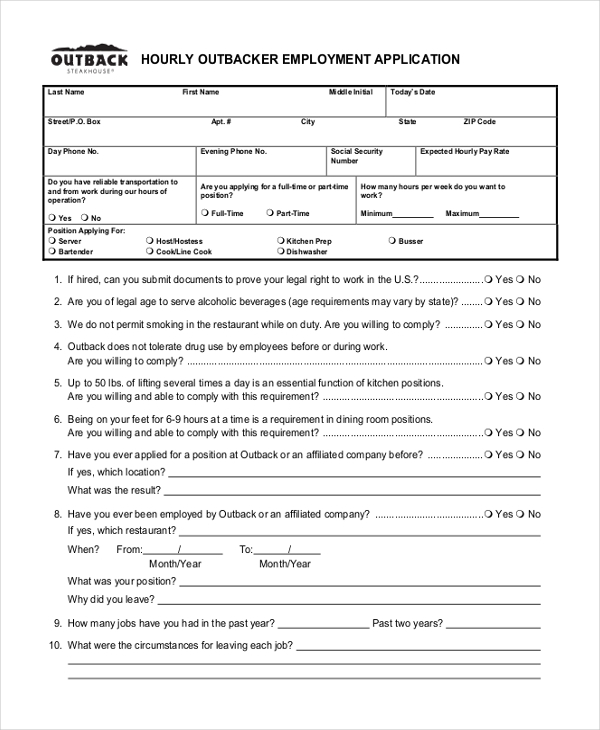table: (43, 87, 557, 259)
